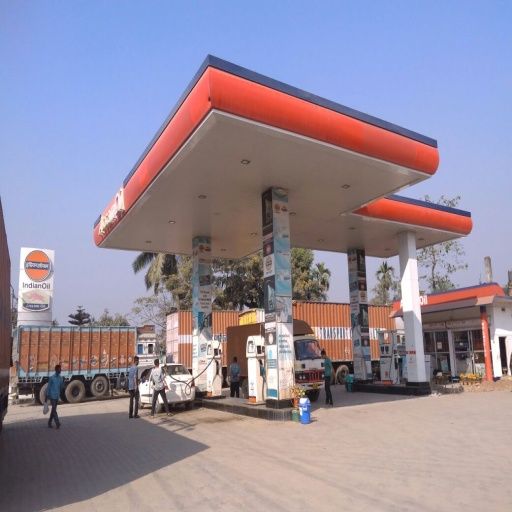roof: (93, 59, 435, 260)
